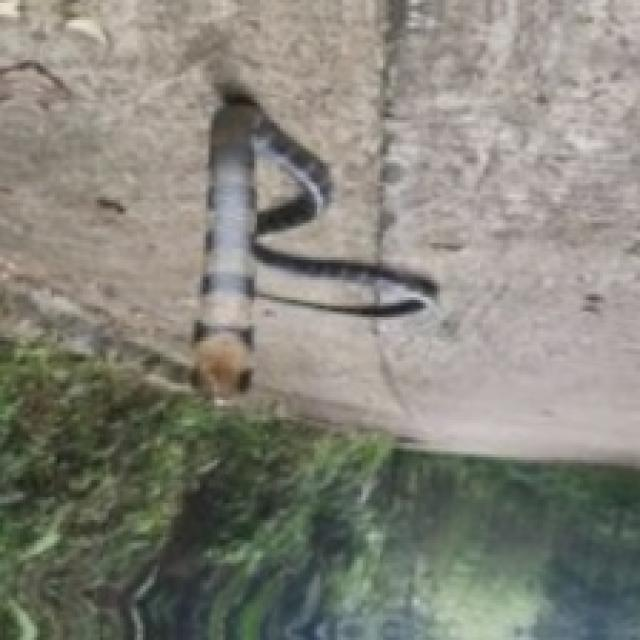king cobra: (191, 86, 434, 397)
